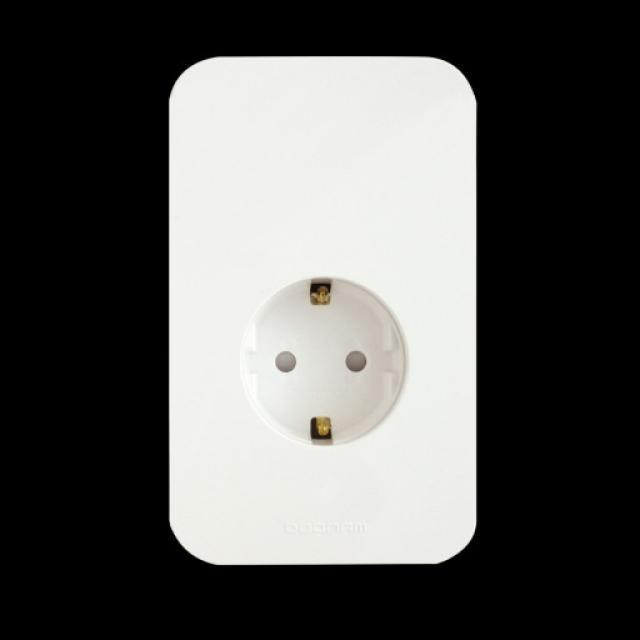typeb: (154, 43, 532, 600)
